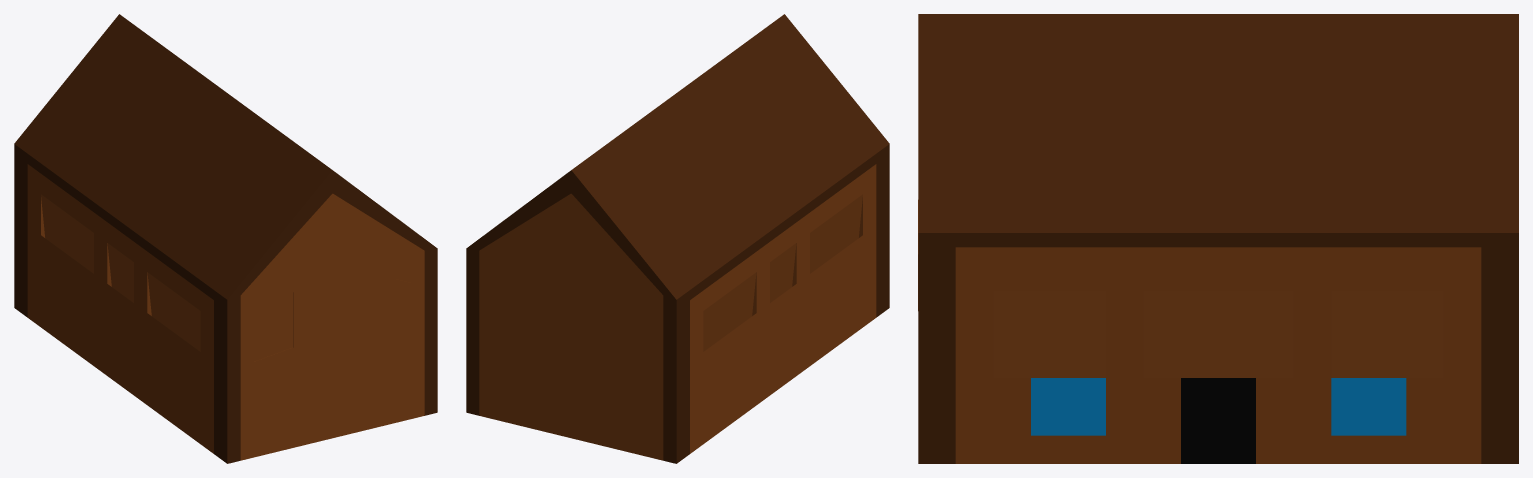
File: house1.fbx
3 renders of one model, left to right at view 1: azimuth 30°, elevation 25°; view 2: azimuth 150°, elevation 25°; view 3: azimuth 270°, elevation 25°, orthographic. The views are drawn at different scales.
Visible parts, largest first — view 1: Cube; view 2: Cube; view 3: Cube.
Boxes of the visible parts, left/top/right/bottom form: Cube: left=14, top=14, right=437, bottom=463; Cube: left=466, top=14, right=889, bottom=463; Cube: left=918, top=14, right=1518, bottom=463.
Size of the model in its own units: 2792 by 3389 by 4885.
